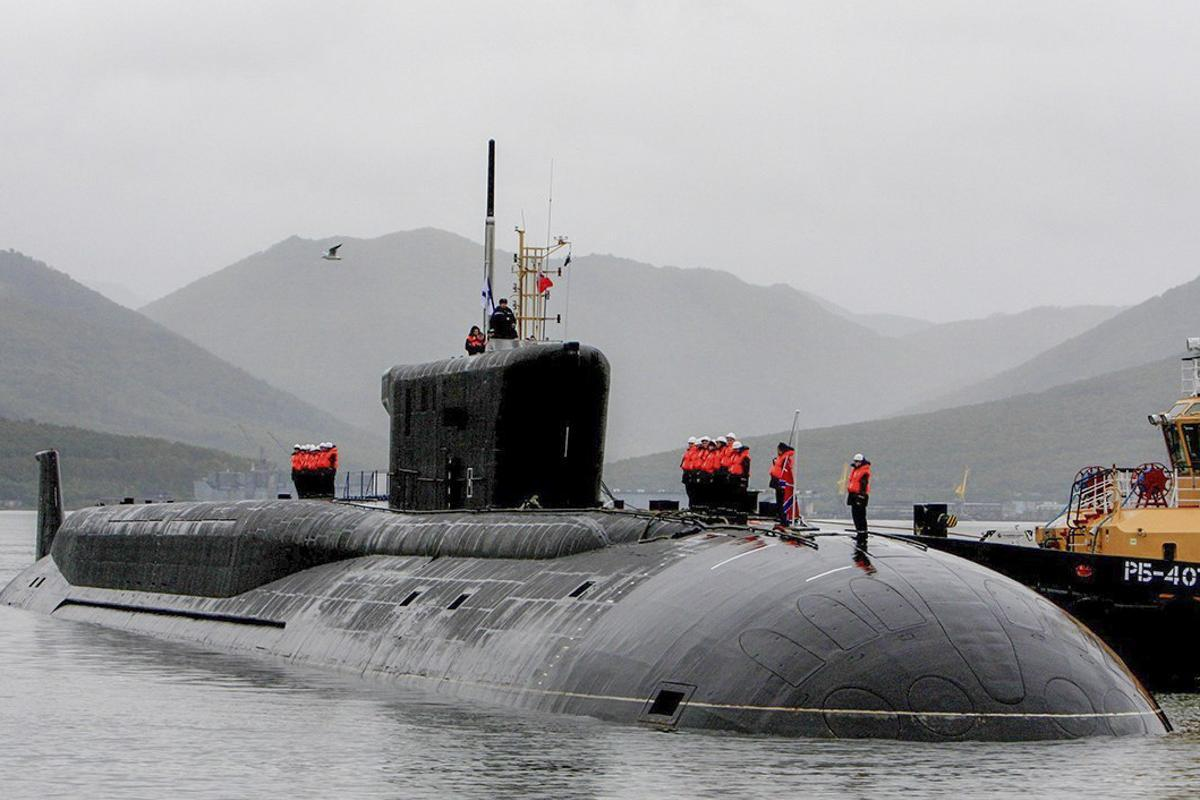Submarine: (0, 120, 1196, 796)
